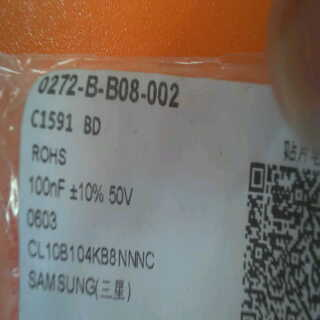100nF: (24, 172, 65, 199)
